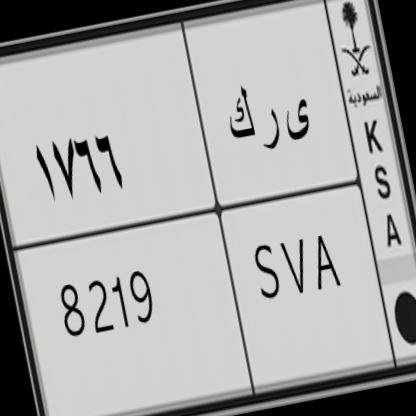english: (3, 166, 401, 416)
